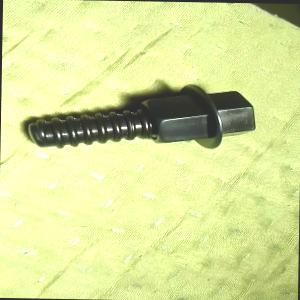parafuso: (27, 80, 257, 150)
